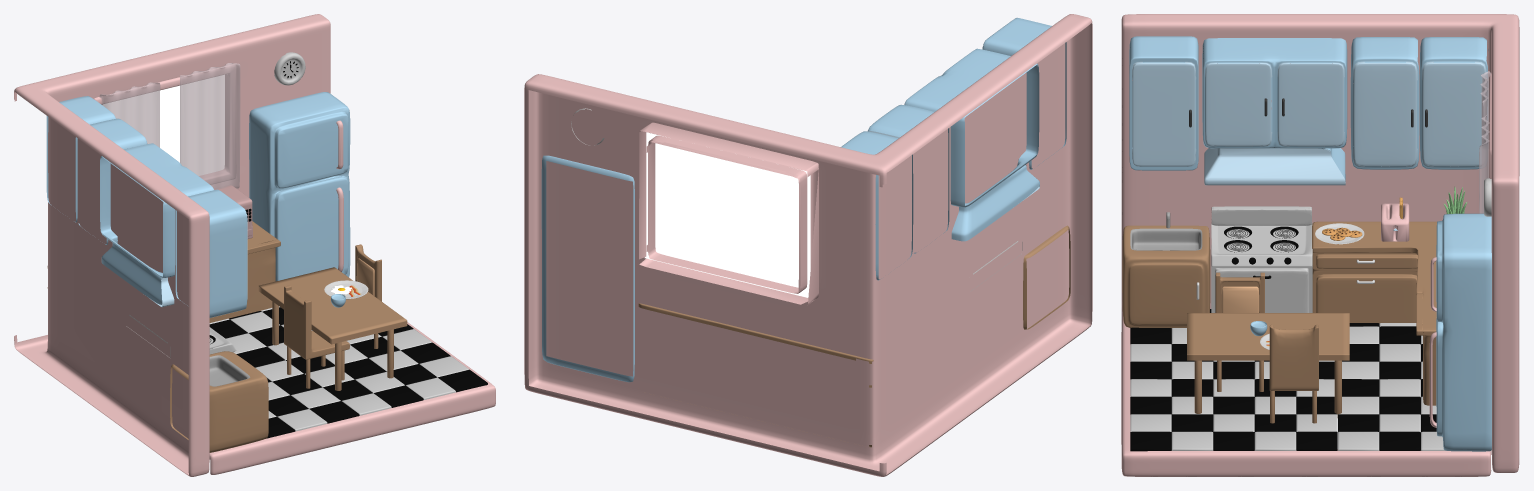
The model's file is kitchen.glb.
The picture shows the model from 3 angles, left to right: view 1: azimuth 30°, elevation 25°; view 2: azimuth 150°, elevation 25°; view 3: azimuth 270°, elevation 25°; orthographic projection. The views are drawn at different scales.
Visible parts, largest first — view 1: walls bakeOne, fridge bakeTwo, floor bakeTwo, floor bakeOne, window, curtainTwo, table bakeTwo, cabinetTwo bakeOne, cabinetOne bakeOne, sink bakeOne, walls1 bakeThree, mainCounter bakeTwo (+9 smaller); view 2: walls bakeOne, window, cabinetTwo bakeOne, walls1 bakeThree, fridge bakeTwo, cabinetOne bakeOne, cabinetThree bakeOne, cabinetFour bakeOne, mainCounter bakeTwo, sink bakeOne; view 3: walls bakeOne, floor bakeTwo, cabinetTwo bakeOne, fridge bakeTwo, mainCounter bakeTwo, floor bakeOne, cabinetOne bakeOne, cabinetThree bakeOne, oven bakeOne, cabinetFour bakeOne, sink bakeOne, table bakeTwo (+10 smaller).
Part boxes in pixels (x1,y1,x2,y2): walls bakeOne: (14, 14, 330, 476); fridge bakeTwo: (249, 92, 350, 281); floor bakeTwo: (209, 306, 487, 438); floor bakeOne: (209, 322, 495, 474); window: (103, 75, 224, 175); curtainTwo: (180, 63, 240, 189); table bakeTwo: (258, 267, 407, 390); cabinetTwo bakeOne: (100, 143, 213, 304); cabinetOne bakeOne: (175, 189, 247, 317); sink bakeOne: (170, 351, 268, 452); walls1 bakeThree: (94, 64, 236, 184); mainCounter bakeTwo: (47, 221, 280, 322); walls bakeOne: (524, 14, 1092, 476); window: (644, 132, 810, 297); cabinetTwo bakeOne: (904, 48, 1039, 241); walls1 bakeThree: (639, 122, 818, 304); fridge bakeTwo: (541, 155, 634, 382); cabinetOne bakeOne: (982, 17, 1066, 169); cabinetThree bakeOne: (867, 104, 949, 253); cabinetFour bakeOne: (841, 131, 913, 280); mainCounter bakeTwo: (638, 303, 873, 447); sink bakeOne: (1023, 225, 1070, 329); walls bakeOne: (1121, 14, 1519, 472); floor bakeTwo: (1130, 323, 1446, 451); cabinetTwo bakeOne: (1202, 38, 1347, 181); fridge bakeTwo: (1429, 213, 1491, 451); mainCounter bakeTwo: (1312, 221, 1436, 405); floor bakeOne: (1121, 303, 1491, 476); cabinetOne bakeOne: (1129, 36, 1198, 170); cabinetThree bakeOne: (1350, 37, 1419, 169); oven bakeOne: (1211, 206, 1312, 312); cabinetFour bakeOne: (1419, 37, 1488, 169); sink bakeOne: (1122, 225, 1210, 328); table bakeTwo: (1187, 313, 1349, 417).
Size of what is drawn, in the model's own units: 4.38 by 3.82 by 4.38.
